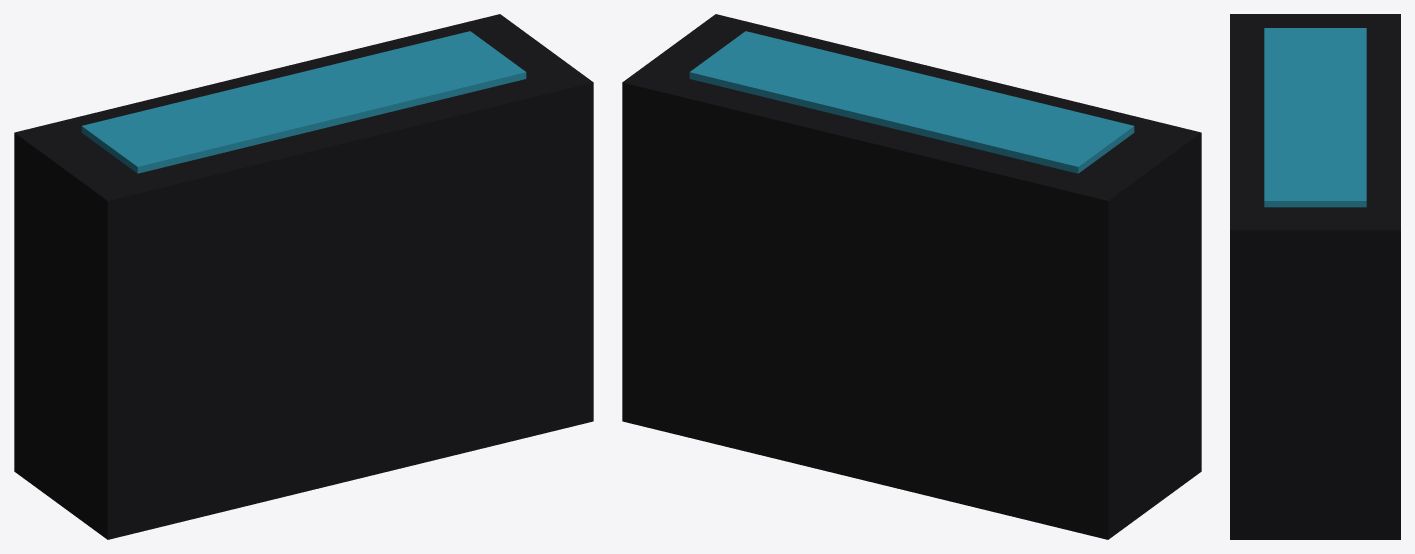
The model's file is kit_controller.obj.
The picture shows the model from 3 angles, left to right: view 1: azimuth 30°, elevation 25°; view 2: azimuth 150°, elevation 25°; view 3: azimuth 270°, elevation 25°; orthographic projection. The views are drawn at different scales.
Parts seen in each view (by area): view 1: kit_controller; view 2: kit_controller; view 3: kit_controller.
Part boxes in pixels (x1=…): kit_controller: x1=14, y1=14, x2=593, y2=539; kit_controller: x1=622, y1=14, x2=1201, y2=539; kit_controller: x1=1230, y1=14, x2=1400, y2=539.
Bounding box in the file's own units: 0.3 × 0.205 × 0.1.
